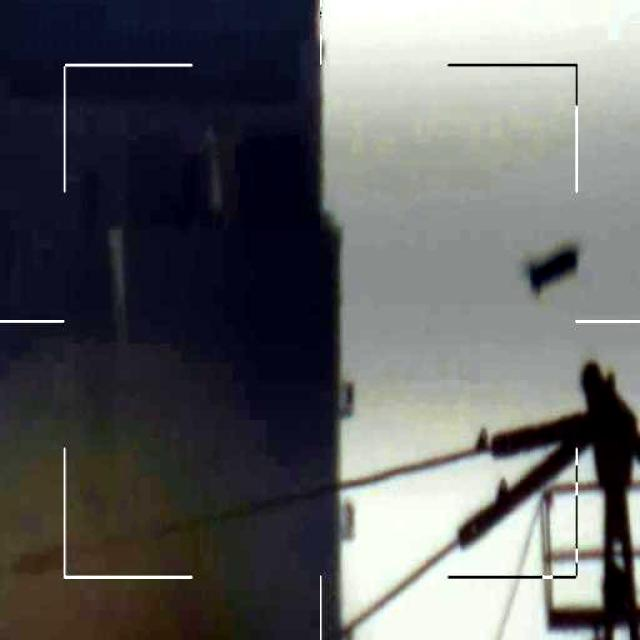bird: (521, 236, 575, 295)
